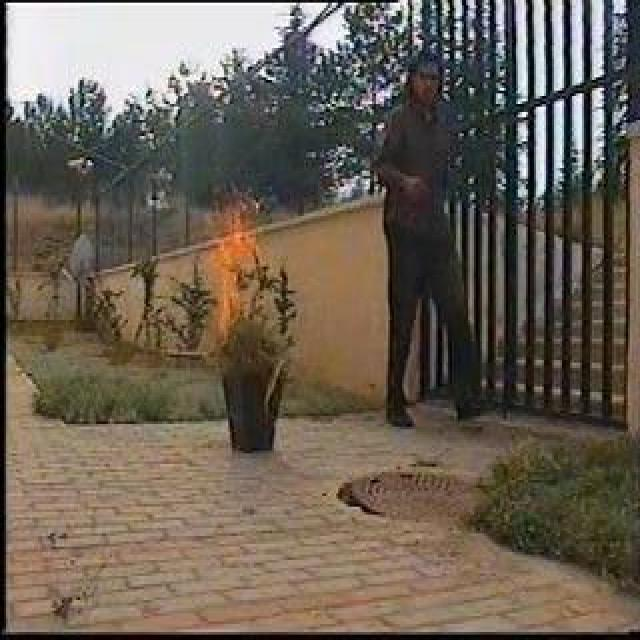fire: (216, 187, 264, 336)
smoke: (216, 169, 246, 188)
